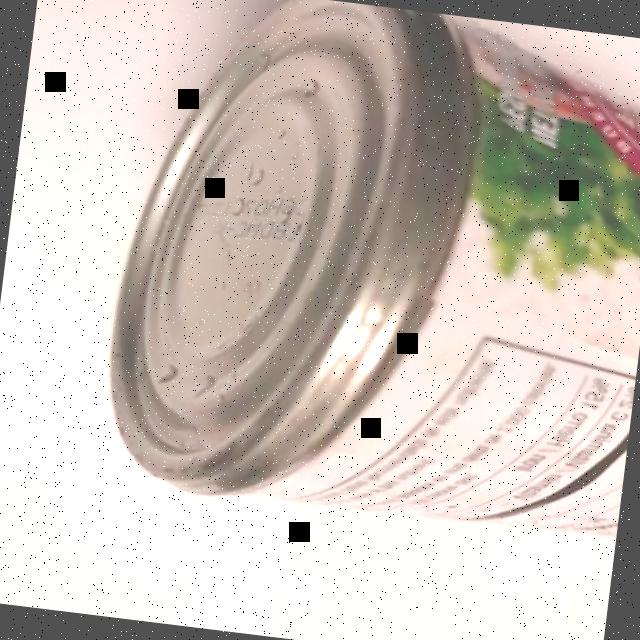can: (80, 0, 640, 556)
